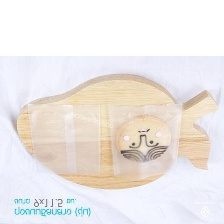snack: (103, 99, 188, 182), (21, 96, 104, 180)
